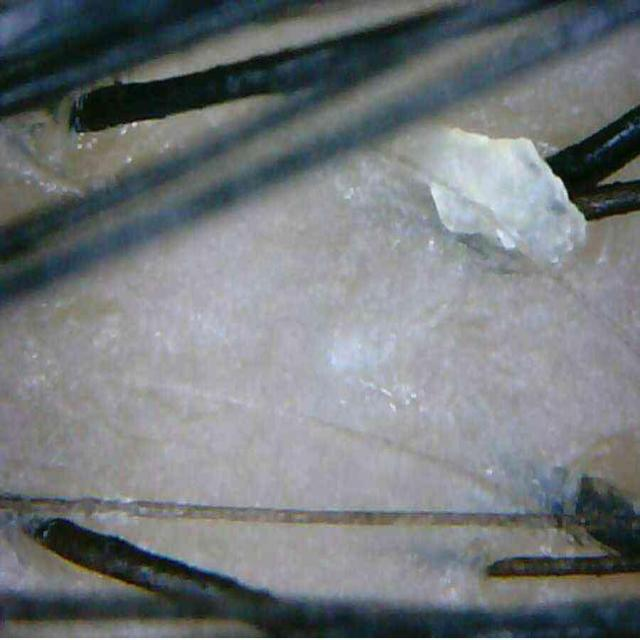d: (391, 126, 586, 266)
